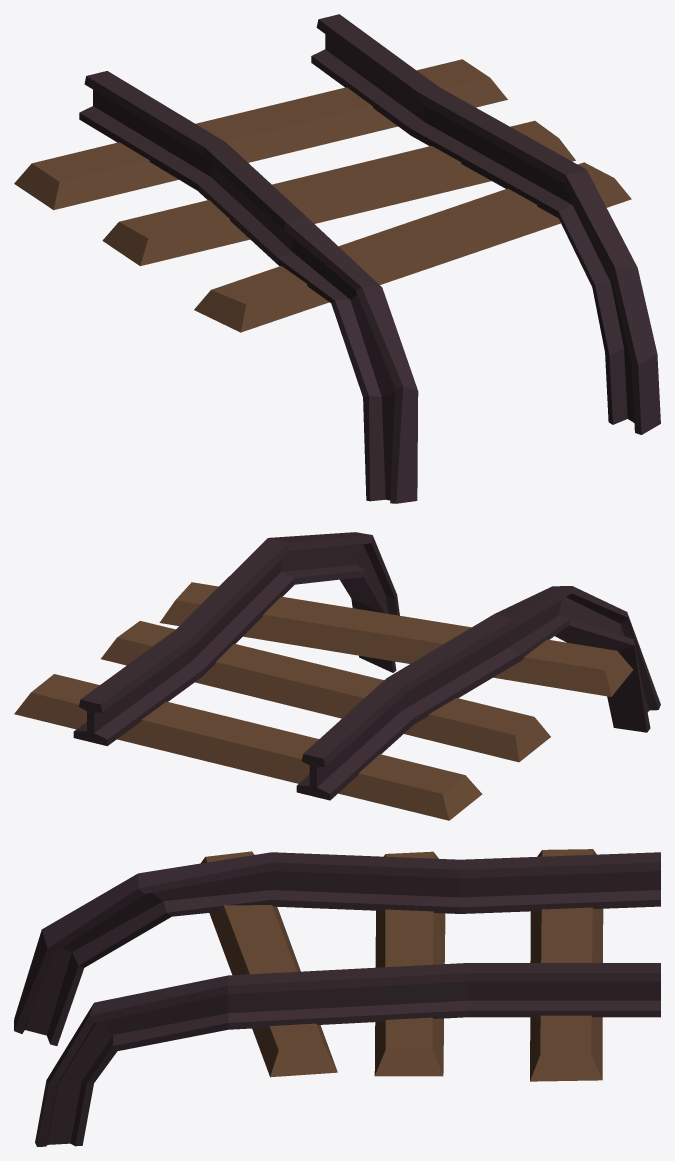
Rendered from railway_damaged_end_01_style_01.fbx.
3 views of the same model, one above another, from view 1: azimuth 30°, elevation 25°; view 2: azimuth 150°, elevation 25°; view 3: azimuth 270°, elevation 25° (orthographic). The views are drawn at different scales.
Parts seen in each view (by area): view 1: damaged_end; view 2: damaged_end; view 3: damaged_end.
Part boxes in pixels (x1=…): damaged_end: x1=14, y1=14, x2=660, y2=503; damaged_end: x1=14, y1=532, x2=660, y2=820; damaged_end: x1=14, y1=849, x2=660, y2=1146.
Size of the model in its own units: 159 by 64.99 by 200.
